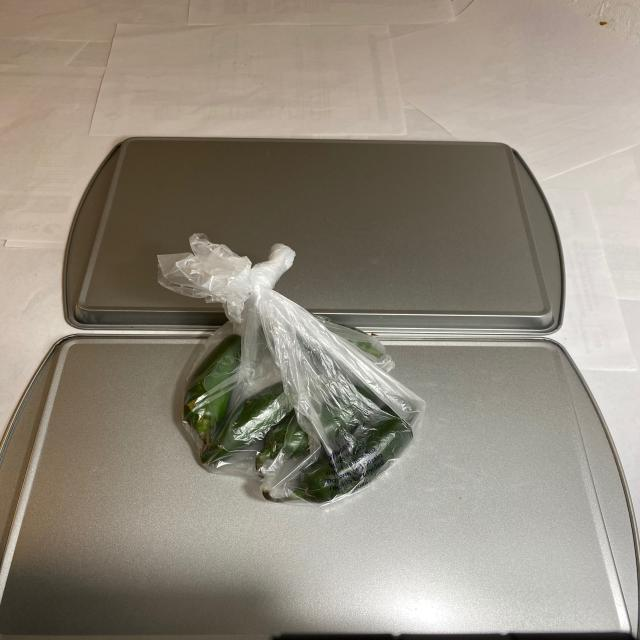chilli: (181, 332, 422, 509)
